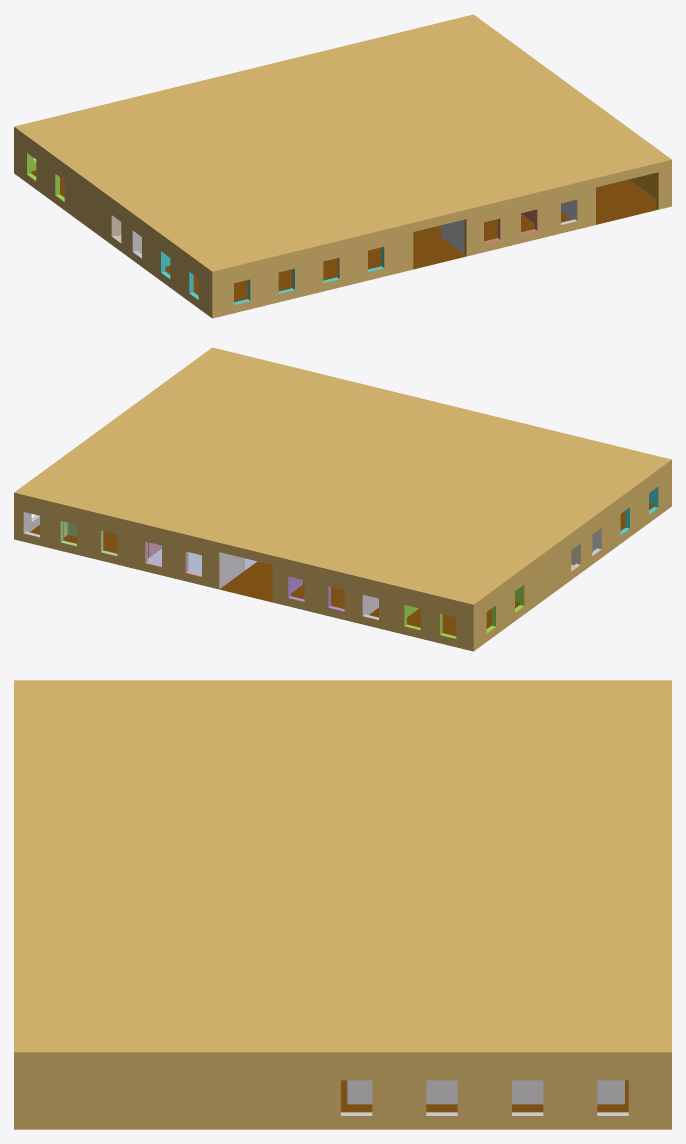
File: test-house.fbx
3 renders of one model, top to bottom at view 1: azimuth 30°, elevation 25°; view 2: azimuth 150°, elevation 25°; view 3: azimuth 270°, elevation 25°, orthographic. The views are drawn at different scales.
Visible parts, largest first — view 1: ceiling, walls, floor; view 2: ceiling, walls, floor; view 3: ceiling, walls, floor.
Boxes of the visible parts, x1,y1,x2,y2 form: ceiling: (14, 14, 671, 280); walls: (14, 136, 671, 318); floor: (31, 170, 664, 316); ceiling: (14, 347, 671, 613); walls: (14, 469, 671, 651); floor: (21, 503, 653, 649); ceiling: (14, 680, 671, 1067); walls: (14, 1067, 671, 1129); floor: (341, 1080, 628, 1112).
Bounding box in the file's own units: 5150 × 501 × 3850.
